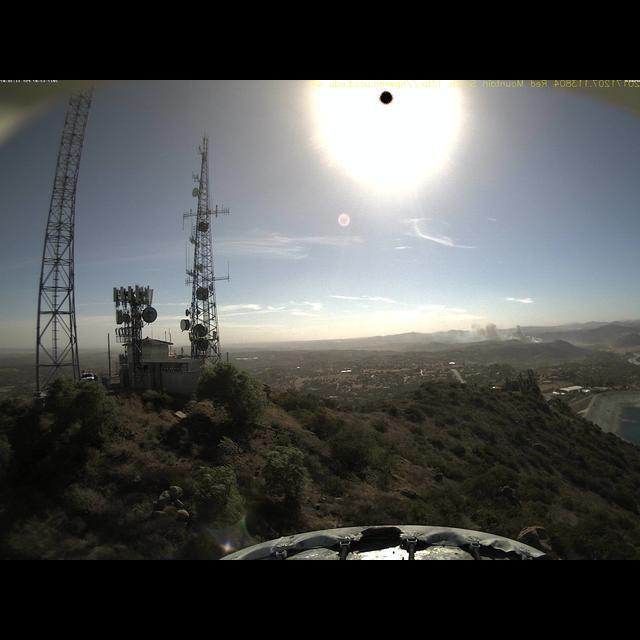Smoke: (449, 316, 548, 347)
